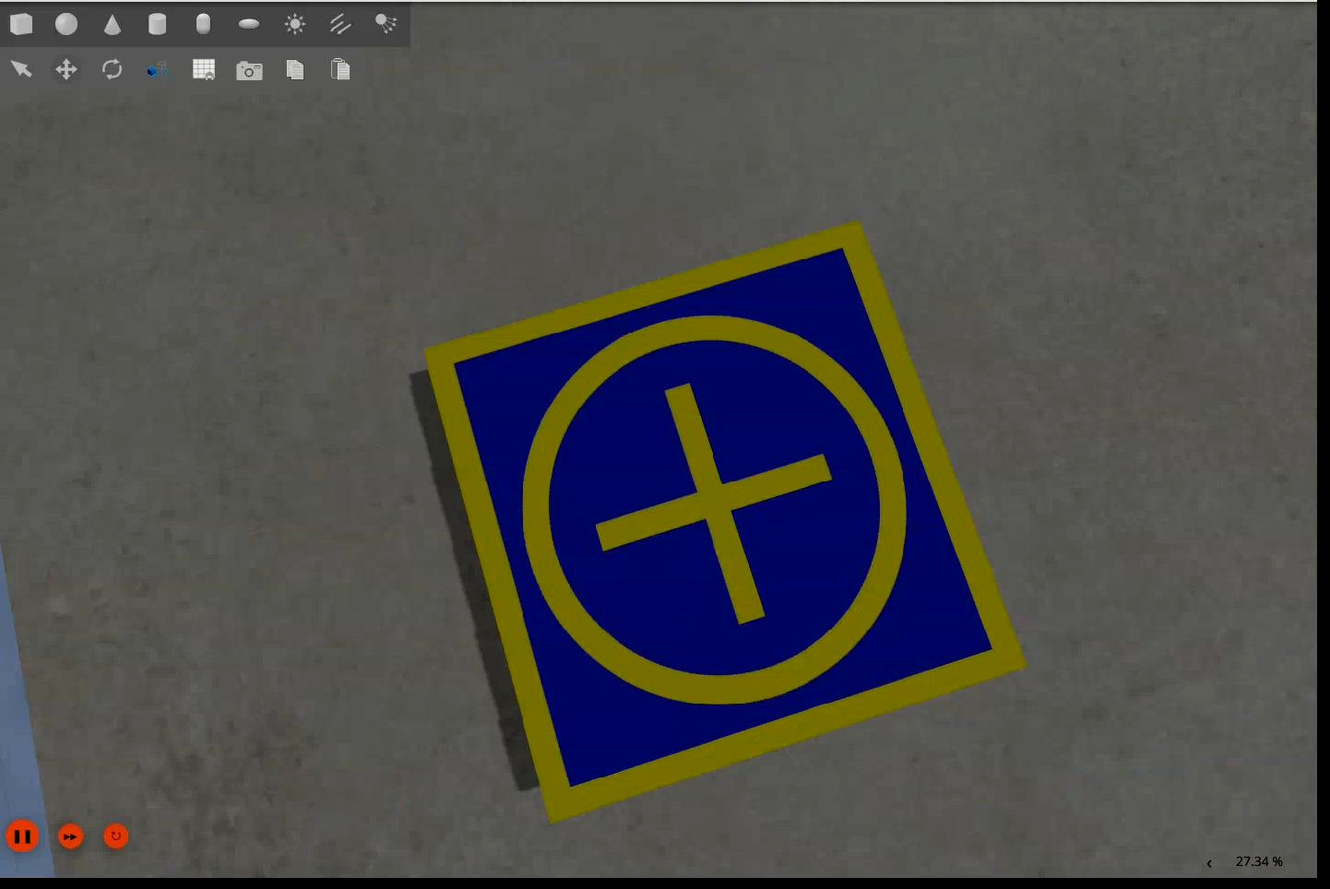small_base: (423, 219, 1032, 831)
